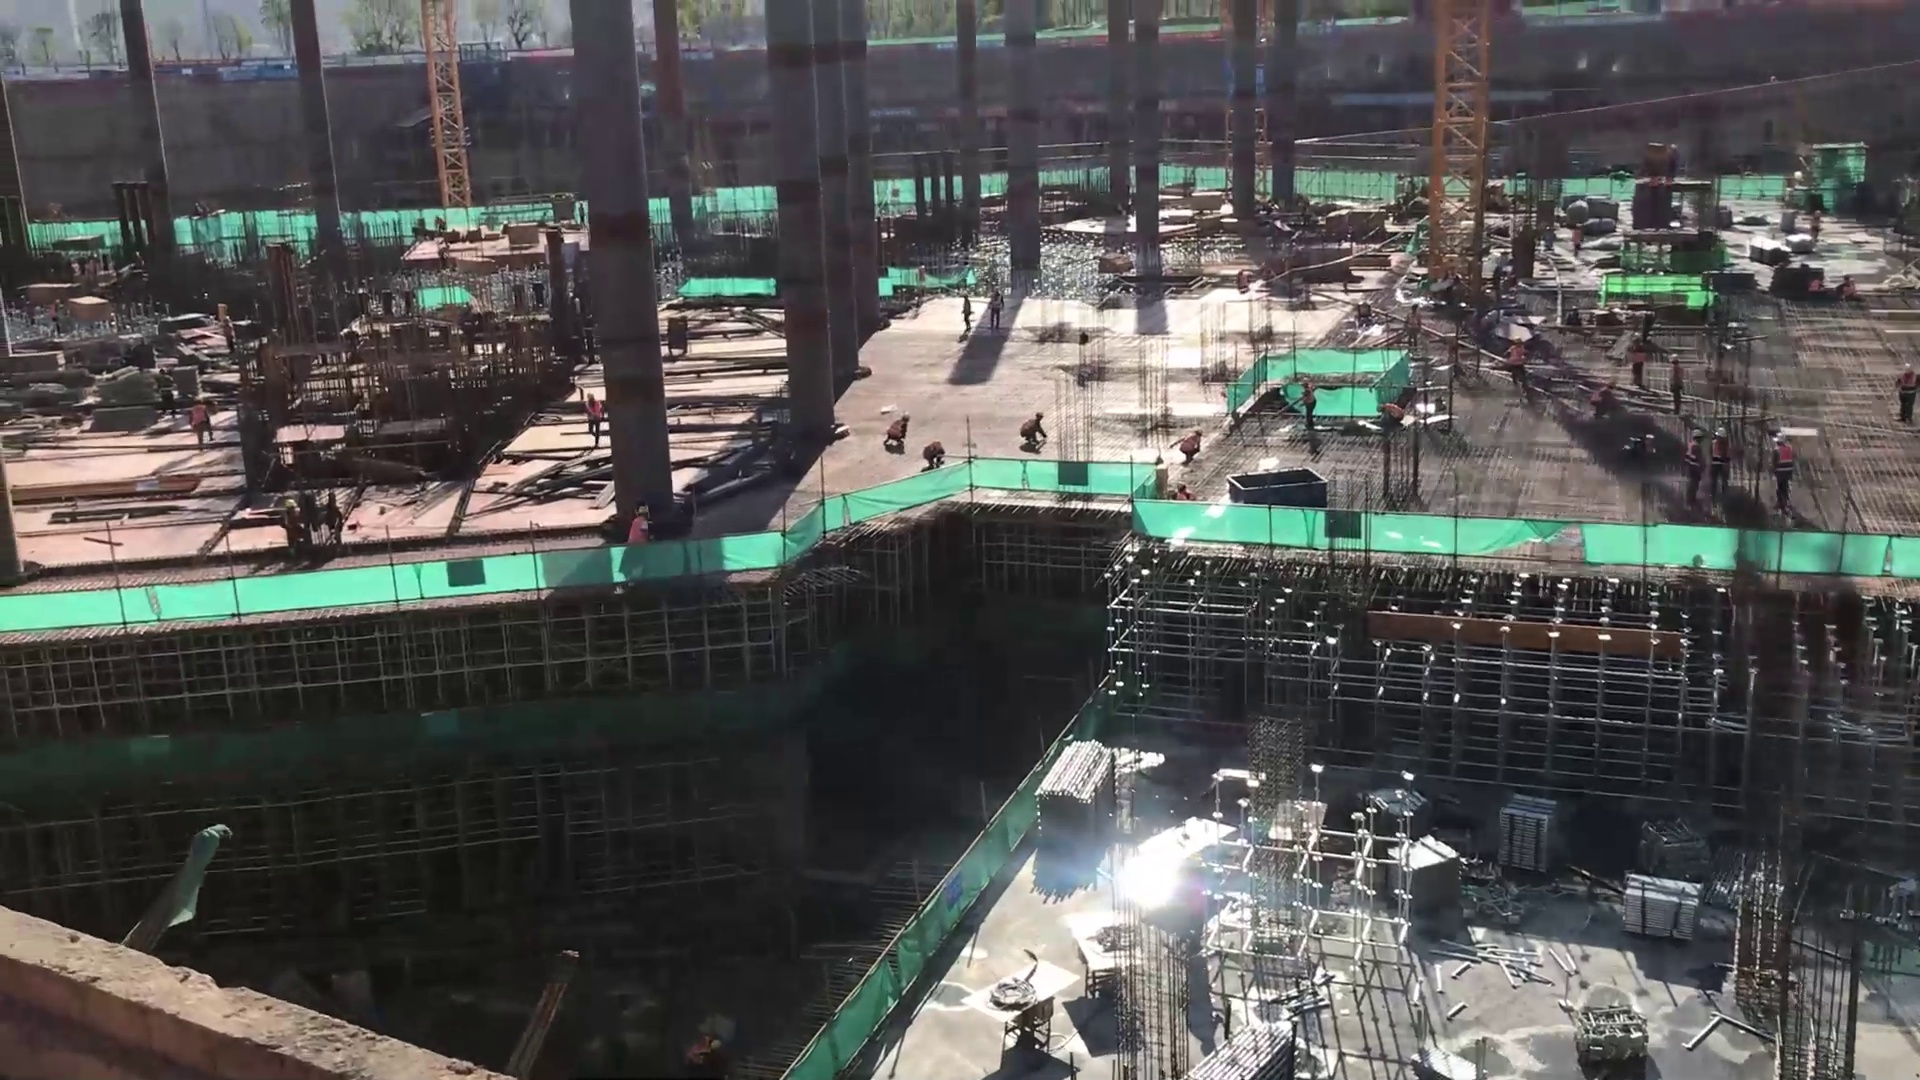person: (1769, 429, 1795, 511), (275, 498, 306, 559), (1891, 359, 1918, 425), (1502, 336, 1532, 392), (1683, 430, 1704, 509), (582, 391, 606, 455), (152, 370, 179, 422), (190, 395, 213, 451), (1400, 302, 1426, 354), (1665, 354, 1686, 414), (1712, 427, 1729, 501), (1298, 375, 1320, 430), (1019, 412, 1047, 452), (884, 409, 910, 450), (1173, 428, 1205, 462), (625, 499, 647, 543), (1591, 380, 1618, 416), (1371, 399, 1405, 427), (1629, 331, 1646, 384), (989, 286, 1006, 330), (921, 442, 948, 466), (960, 290, 974, 333)
scaffold: (1035, 739, 1113, 835), (1178, 1023, 1297, 1080), (1387, 835, 1459, 913), (1624, 877, 1701, 939), (1496, 796, 1555, 870)
